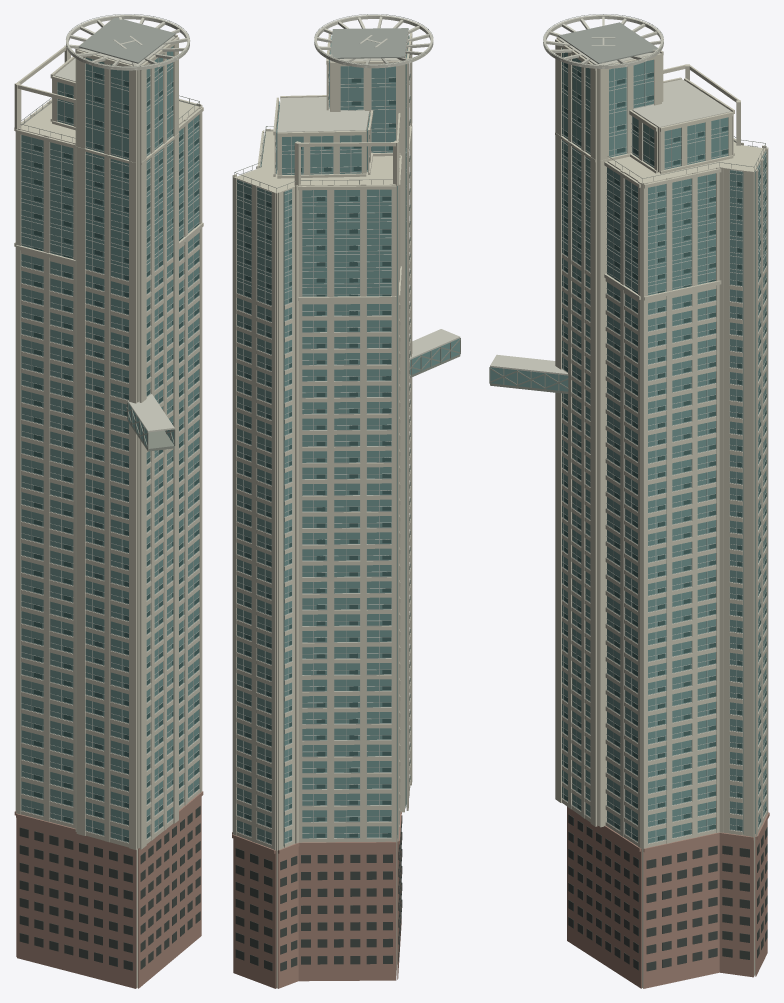
File: bespoke-mokdong-trapalace-western-a.glb
3 views of the same model, side by side, from view 1: azimuth 30°, elevation 25°; view 2: azimuth 150°, elevation 25°; view 3: azimuth 270°, elevation 25° (orthographic). The views are drawn at different scales.
Parts seen in each view (by area): view 1: 웨스턴_A_stone_and_green_window_bays002, 웨스턴_A_stone_and_green_window_bays002_1, 웨스턴_A_stone_and_green_window_bays002_4, 웨스턴_A_stone_and_green_window_bays002_3, 웨스턴_A_stone_and_green_window_bays002_2, 웨스턴_A_stone_and_green_window_bays002_5, 웨스턴_A_roofplan_body, 웨스턴_A_stepped_crown_and_round_helipad002_1, 웨스턴_A_stepped_crown_and_round_helipad002_2, 웨스턴_A_stepped_crown_and_round_helipad002, 웨스턴_A_34F_bridge_if_A002_1, 웨스턴_A_34F_bridge_if_A002_2 (+1 smaller); view 2: 웨스턴_A_stone_and_green_window_bays002, 웨스턴_A_stone_and_green_window_bays002_1, 웨스턴_A_stone_and_green_window_bays002_3, 웨스턴_A_stone_and_green_window_bays002_4, 웨스턴_A_roofplan_body, 웨스턴_A_stone_and_green_window_bays002_2, 웨스턴_A_stone_and_green_window_bays002_5, 웨스턴_A_stepped_crown_and_round_helipad002_1, 웨스턴_A_stepped_crown_and_round_helipad002_2, 웨스턴_A_stepped_crown_and_round_helipad002, 웨스턴_A_34F_bridge_if_A002_1, 웨스턴_A_34F_bridge_if_A002 (+1 smaller); view 3: 웨스턴_A_stone_and_green_window_bays002, 웨스턴_A_stone_and_green_window_bays002_1, 웨스턴_A_stone_and_green_window_bays002_3, 웨스턴_A_stone_and_green_window_bays002_4, 웨스턴_A_roofplan_body, 웨스턴_A_stone_and_green_window_bays002_2, 웨스턴_A_stone_and_green_window_bays002_5, 웨스턴_A_stepped_crown_and_round_helipad002_1, 웨스턴_A_stepped_crown_and_round_helipad002_2, 웨스턴_A_34F_bridge_if_A002, 웨스턴_A_34F_bridge_if_A002_1, 웨스턴_A_34F_bridge_if_A002_2 (+1 smaller).
Part boxes in pixels (<box>): 웨스턴_A_stone_and_green_window_bays002: <box>14,20,203,849</box>; 웨스턴_A_stone_and_green_window_bays002_1: <box>21,46,199,842</box>; 웨스턴_A_stone_and_green_window_bays002_4: <box>14,791,203,988</box>; 웨스턴_A_stone_and_green_window_bays002_3: <box>21,49,199,842</box>; 웨스턴_A_stone_and_green_window_bays002_2: <box>34,62,198,841</box>; 웨스턴_A_stone_and_green_window_bays002_5: <box>19,806,200,970</box>; 웨스턴_A_roofplan_body: <box>21,39,199,987</box>; 웨스턴_A_stepped_crown_and_round_helipad002_1: <box>54,15,189,81</box>; 웨스턴_A_stepped_crown_and_round_helipad002_2: <box>78,17,175,63</box>; 웨스턴_A_stepped_crown_and_round_helipad002: <box>14,45,75,129</box>; 웨스턴_A_34F_bridge_if_A002_1: <box>127,393,174,432</box>; 웨스턴_A_34F_bridge_if_A002_2: <box>126,402,175,451</box>; 웨스턴_A_stone_and_green_window_bays002: <box>232,33,412,850</box>; 웨스턴_A_stone_and_green_window_bays002_1: <box>237,35,409,845</box>; 웨스턴_A_stone_and_green_window_bays002_3: <box>236,34,410,844</box>; 웨스턴_A_stone_and_green_window_bays002_4: <box>232,811,401,988</box>; 웨스턴_A_roofplan_body: <box>235,34,408,988</box>; 웨스턴_A_stone_and_green_window_bays002_2: <box>245,54,410,843</box>; 웨스턴_A_stone_and_green_window_bays002_5: <box>235,815,402,971</box>; 웨스턴_A_stepped_crown_and_round_helipad002_1: <box>277,15,433,132</box>; 웨스턴_A_stepped_crown_and_round_helipad002_2: <box>330,28,408,58</box>; 웨스턴_A_stepped_crown_and_round_helipad002: <box>294,113,400,186</box>; 웨스턴_A_34F_bridge_if_A002_1: <box>409,329,460,359</box>; 웨스턴_A_34F_bridge_if_A002: <box>410,338,459,375</box>; 웨스턴_A_stone_and_green_window_bays002: <box>555,37,768,848</box>; 웨스턴_A_stone_and_green_window_bays002_1: <box>562,48,766,843</box>; 웨스턴_A_stone_and_green_window_bays002_3: <box>562,53,766,843</box>; 웨스턴_A_stone_and_green_window_bays002_4: <box>567,806,769,988</box>; 웨스턴_A_roofplan_body: <box>572,59,765,987</box>; 웨스턴_A_stone_and_green_window_bays002_2: <box>564,63,766,841</box>; 웨스턴_A_stone_and_green_window_bays002_5: <box>568,814,767,971</box>; 웨스턴_A_stepped_crown_and_round_helipad002_1: <box>543,15,731,128</box>; 웨스턴_A_stepped_crown_and_round_helipad002_2: <box>558,22,657,63</box>; 웨스턴_A_34F_bridge_if_A002: <box>490,367,568,391</box>; 웨스턴_A_34F_bridge_if_A002_1: <box>490,354,568,375</box>; 웨스턴_A_34F_bridge_if_A002_2: <box>489,367,572,393</box>.
Size of the model in its own units: 34.42 by 186 by 52.05.
